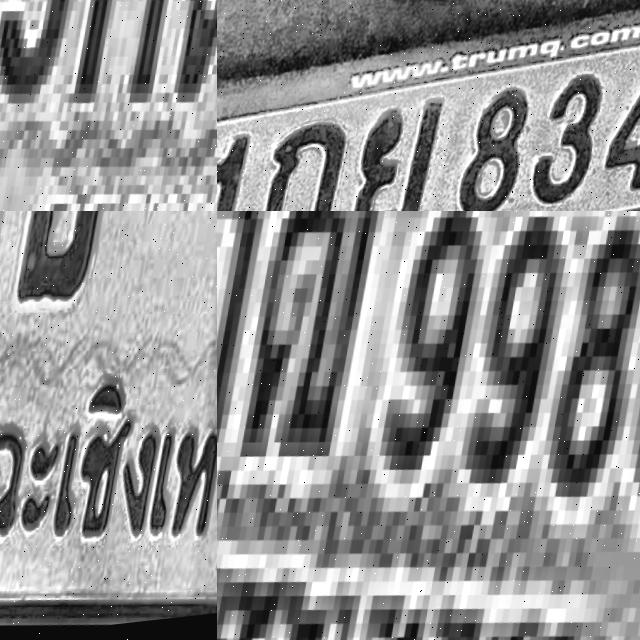license-plate: (217, 211, 640, 640), (0, 211, 217, 640), (217, 0, 640, 211), (0, 0, 217, 211)
